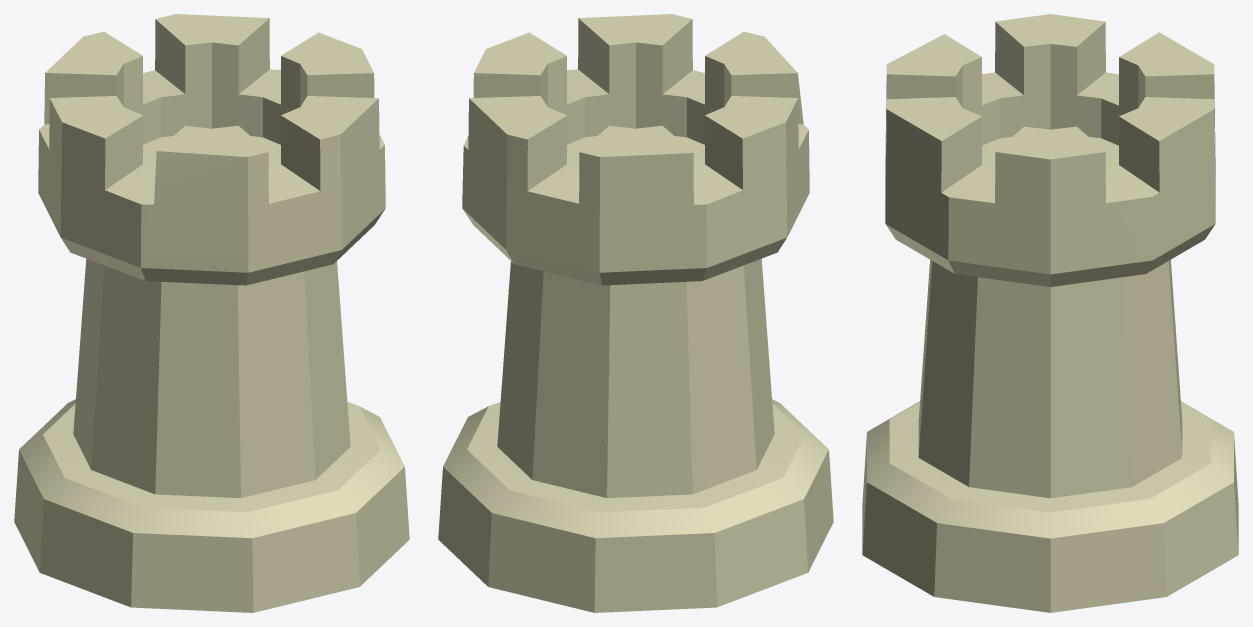
Rendered from rook_01.glb.
3 renders of one model, left to right at view 1: azimuth 30°, elevation 25°; view 2: azimuth 150°, elevation 25°; view 3: azimuth 270°, elevation 25°, orthographic.
Parts seen in each view (by area): view 1: rook_01; view 2: rook_01; view 3: rook_01.
Part boxes in pixels (x1,y1,x2,y2): rook_01: [14, 14, 409, 612]; rook_01: [438, 14, 833, 612]; rook_01: [862, 14, 1238, 612].
Bounding box in the file's own units: 0.5193 × 0.6414 × 0.4938.
